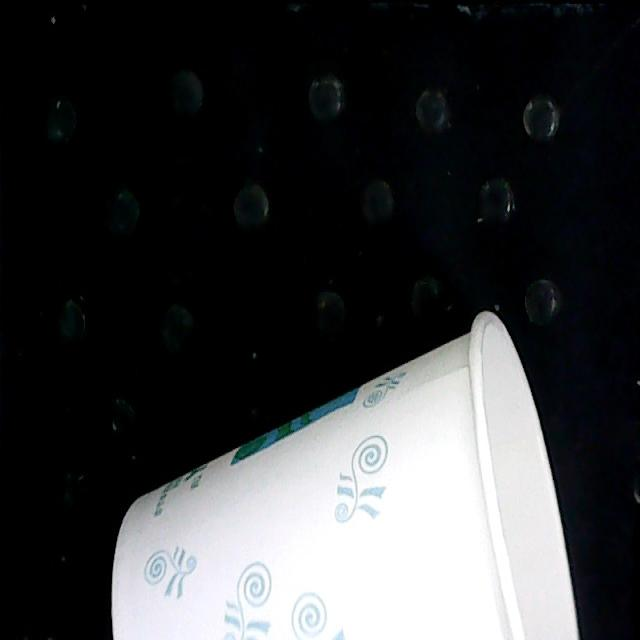-Recyclables - paper cup-: (111, 322, 578, 637)
